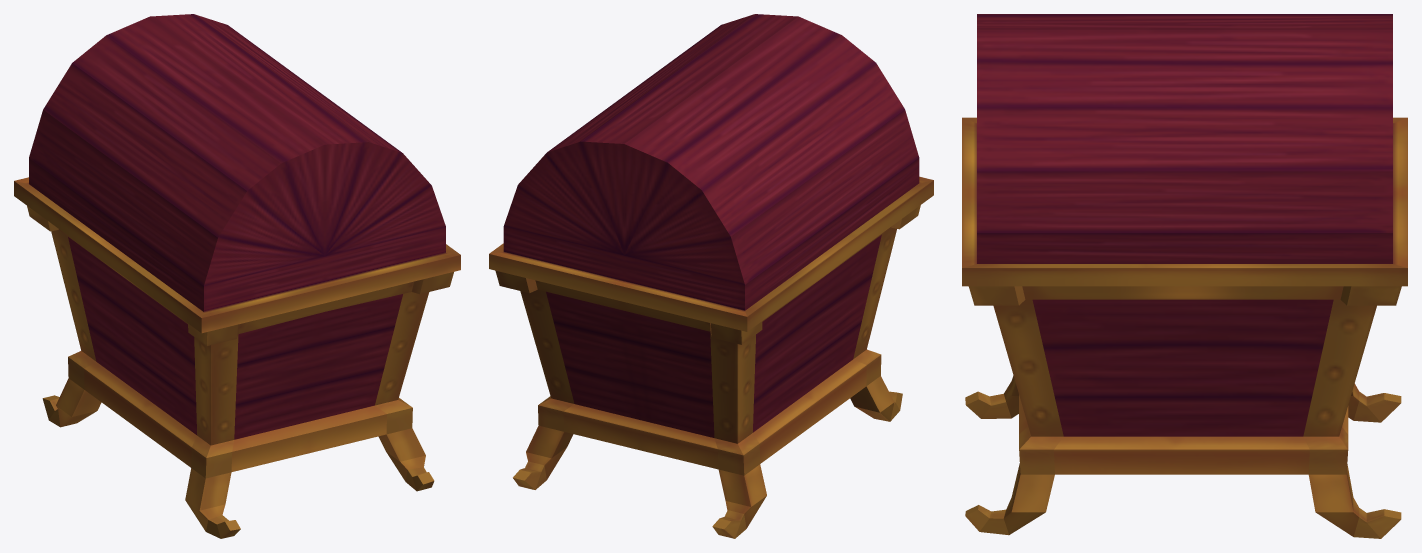
The model's file is chest_Aixa.fbx.
3 views of the same model, side by side, from view 1: azimuth 30°, elevation 25°; view 2: azimuth 150°, elevation 25°; view 3: azimuth 270°, elevation 25° (orthographic). The views are drawn at different scales.
Parts seen in each view (by area): view 1: Tapa, Abajo; view 2: Tapa, Abajo; view 3: Tapa, Abajo.
Boxes of the visible parts, left/top/right/bottom form: Tapa: left=14, top=14, right=460, bottom=333; Abajo: left=27, top=206, right=453, bottom=538; Tapa: left=489, top=14, right=933, bottom=331; Abajo: left=495, top=205, right=920, bottom=538; Tapa: left=962, top=14, right=1407, bottom=286; Abajo: left=965, top=286, right=1401, bottom=538.
Size of the model in its own units: 50.06 by 69.06 by 62.71.
2 materials, 2 textured.
